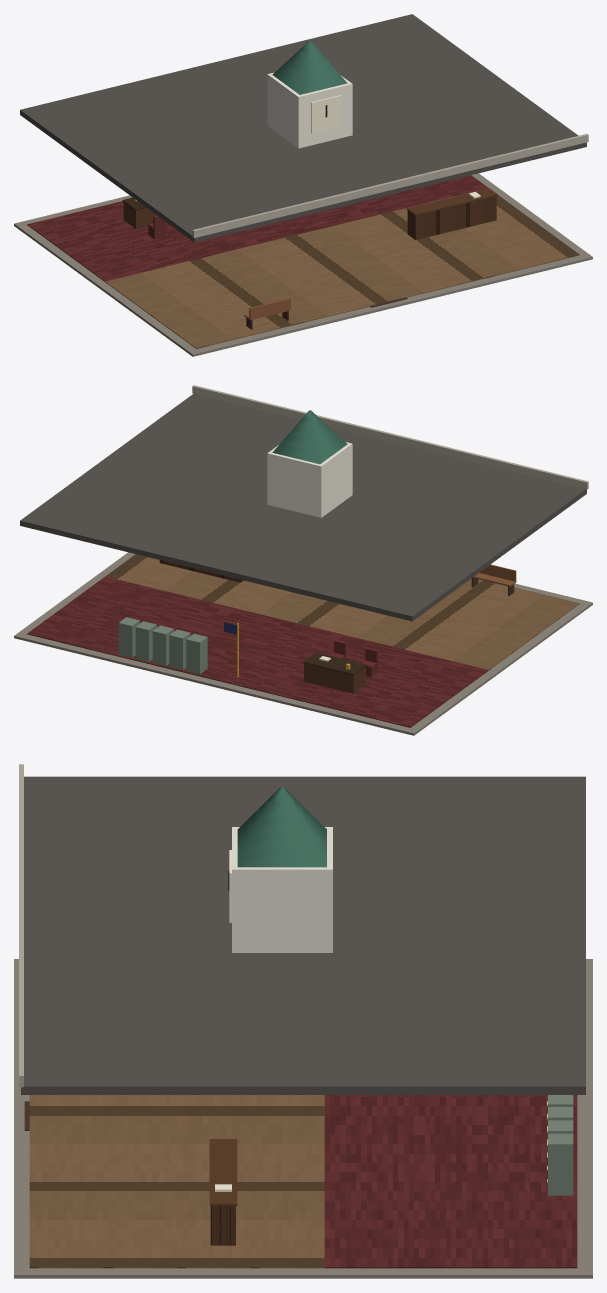
Rendered from structure.glb.
The picture shows the model from 3 angles, top to bottom: view 1: azimuth 30°, elevation 25°; view 2: azimuth 150°, elevation 25°; view 3: azimuth 270°, elevation 25°; orthographic projection. The views are drawn at different scales.
Visible parts, largest first — view 1: Box5, Box2, Box9, Box7, Box1, Box10, Box6, Box13, Structure, Box11, Box14, Box20 (+1 smaller); view 2: Box9, Box5, Box7, Box2, Box1, Box10, Box6, Structure, Box20, Box30, Box21, Box35 (+3 smaller); view 3: Box5, Box9, Box2, Box7, Box1, Box10, Structure, Box14, Box50, Box6, Box13.
Part boxes in pixels (x1,y1,x2,y2): Box5: (98,71,586,242); Box2: (105,188,579,348); Box9: (20,14,492,173); Box7: (27,175,487,281); Box1: (14,173,592,356); Box10: (267,72,352,148); Box6: (192,134,588,237); Box13: (407,196,496,239); Structure: (272,41,347,94); Box11: (311,95,340,133); Box14: (406,188,497,215); Box20: (123,202,156,228); Box9: (20,462,490,621); Box5: (98,393,586,563); Box7: (27,576,488,727); Box2: (105,554,579,670); Box1: (14,552,592,735); Box10: (267,442,352,517); Box6: (192,385,588,489); Structure: (272,410,347,464); Box20: (304,663,365,693); Box30: (186,633,207,674); Box21: (303,652,367,675); Box35: (169,629,190,670); Box5: (21,776,332,1094); Box9: (324,776,585,1094); Box2: (29,1095,324,1268); Box7: (324,1095,577,1268); Box1: (14,959,592,1278); Box10: (232,827,332,952); Structure: (237,786,326,867); Box14: (209,1139,237,1205); Box50: (548,1133,573,1195); Box6: (19,764,23,1087); Box13: (210,1206,235,1245).
Size of the model in its own units: 17.74 by 8.73 by 13.74.
20 materials, 3 textured.
